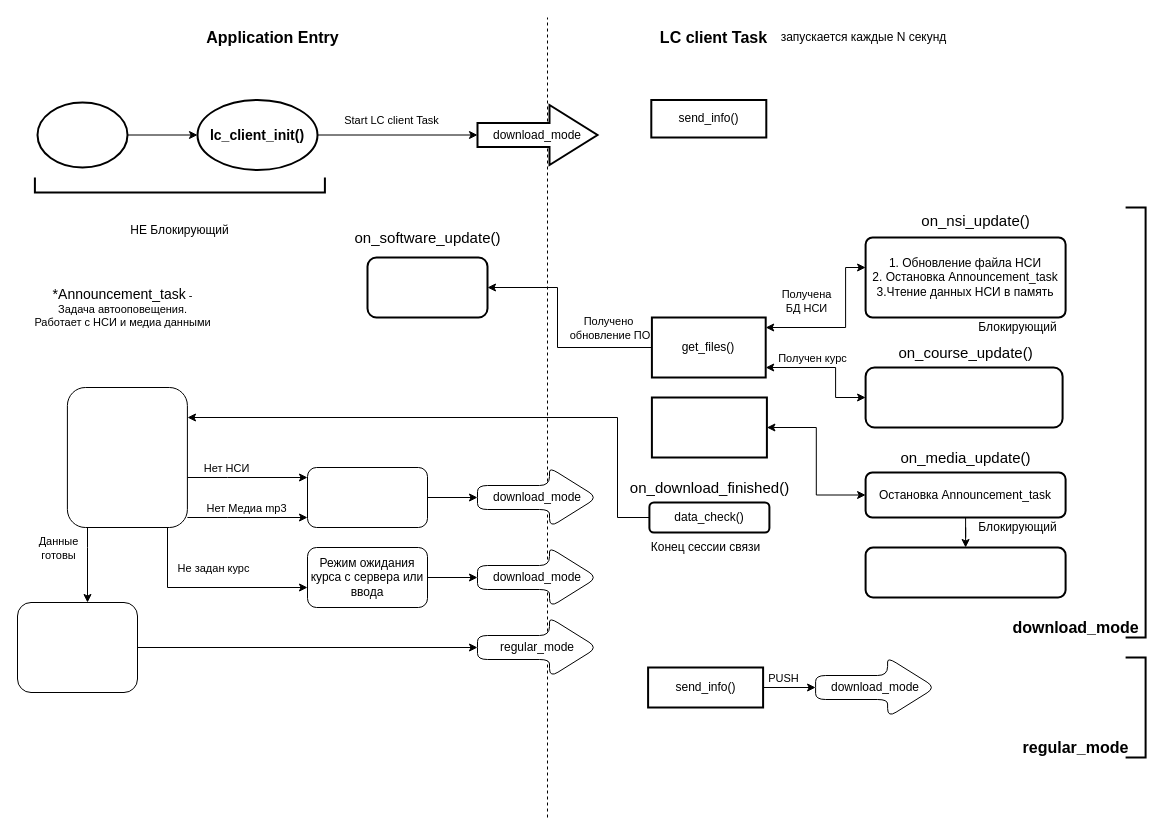
The diagram is 1164 pixels wide and 836 high, and some of its shapes have lost their labels. The shapes that lost their labels are listed below. From the top down, each one's box as (x1, y1, x2, y2) in pixels, then its label:
(36, 101, 128, 168): preinit()
(33, 176, 325, 193): init() - фаза инициализации
(650, 396, 767, 458): get_media_list()
(66, 386, 187, 528): data_check(): 1. Проверка готовности данных НСИ 2. Проверка курса
(306, 466, 428, 528): Режим ожидания данных с сервера
(864, 546, 1066, 598): По скачанному листу циклично скачивать по 1 медиа файлу
(16, 602, 138, 692): Штатный режим запуск Announcement_task
